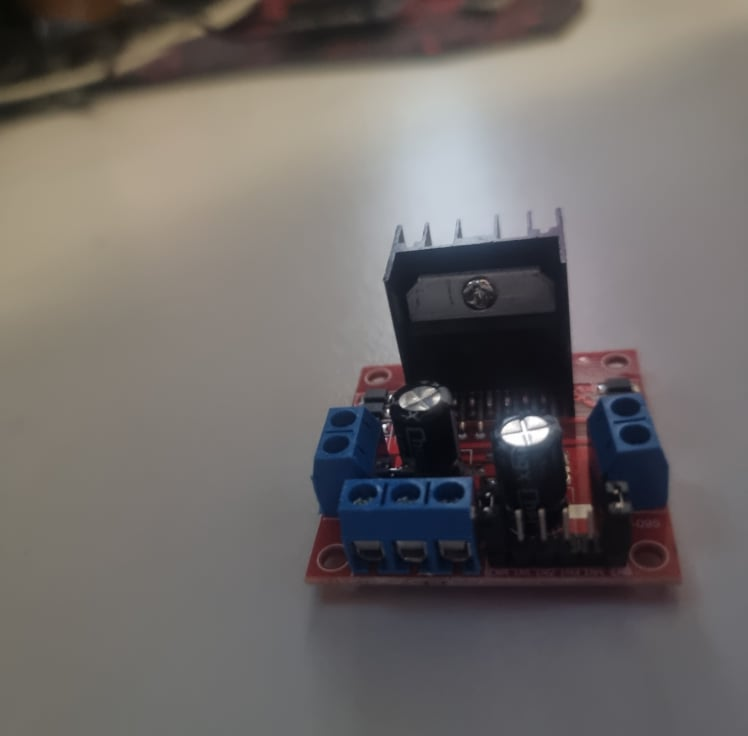MOTOR: (306, 208, 685, 592)
